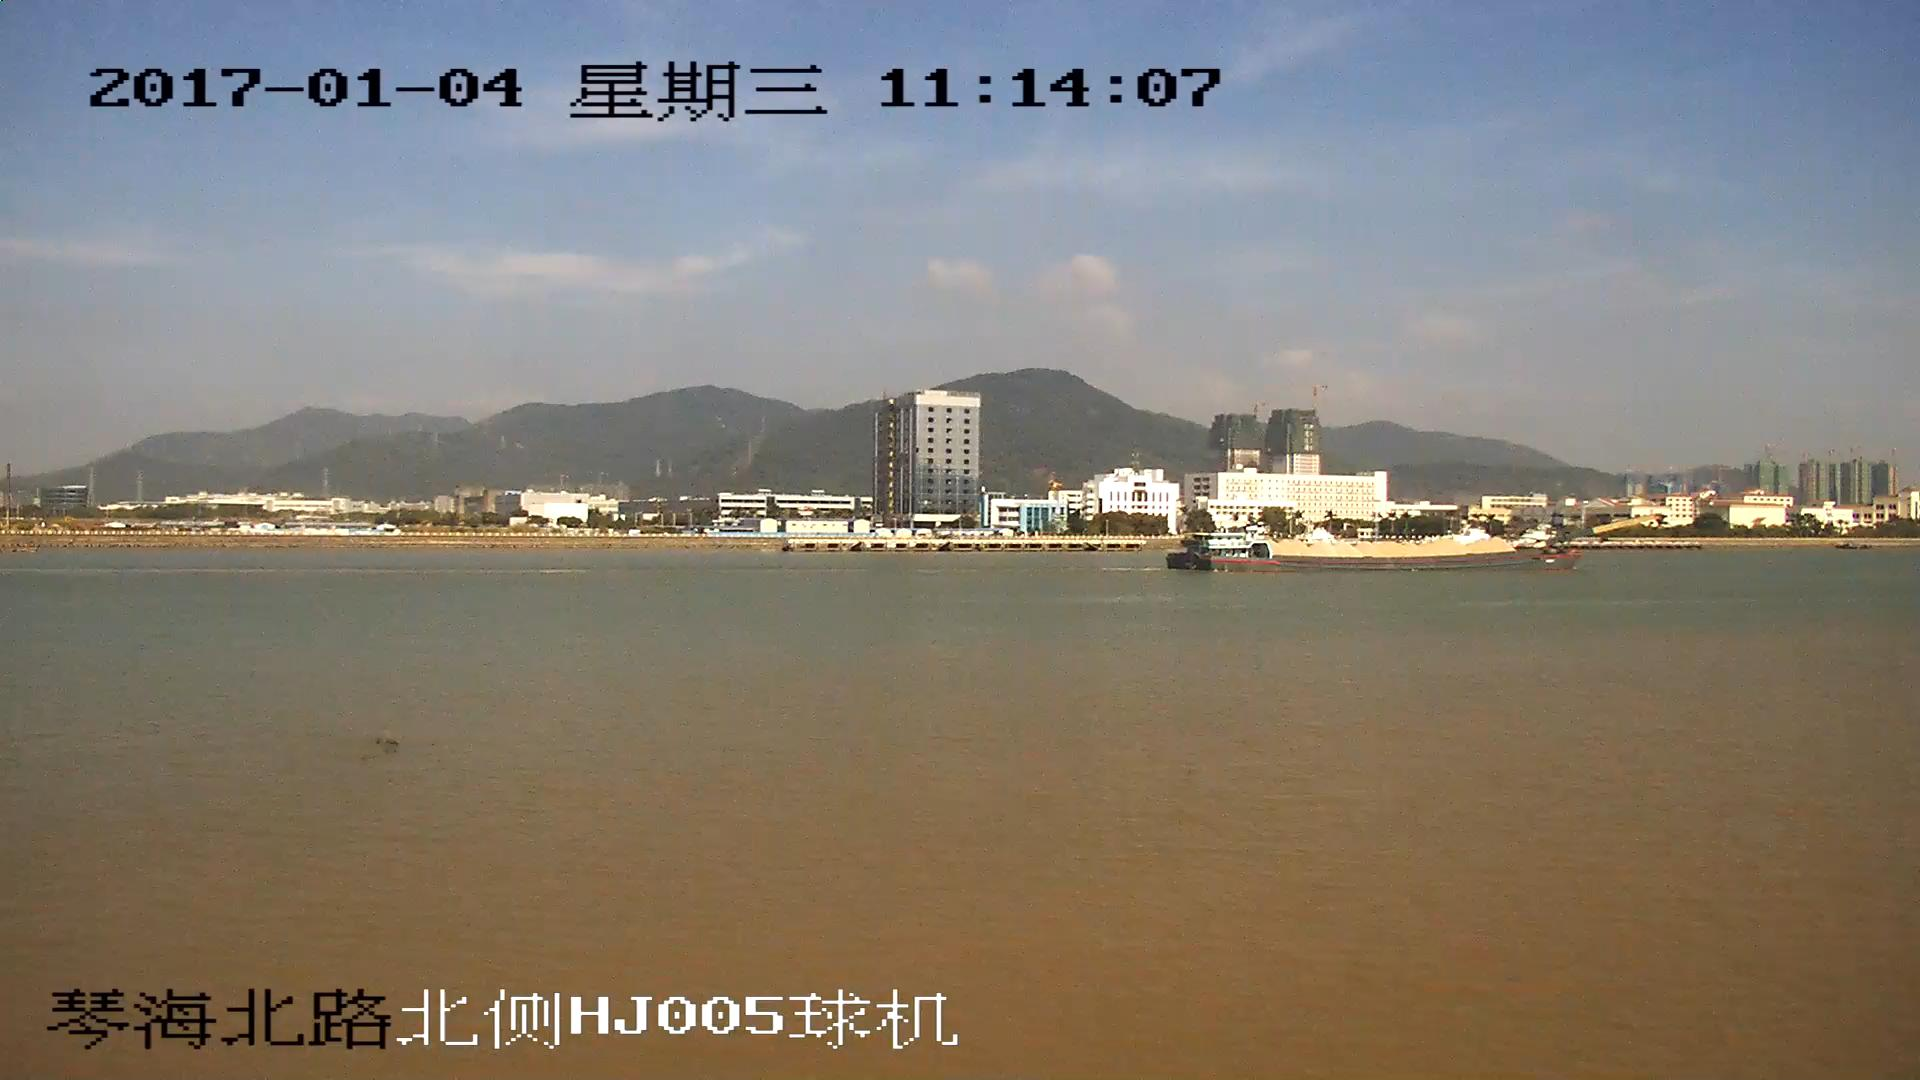ore carrier: (1163, 517, 1660, 575)
